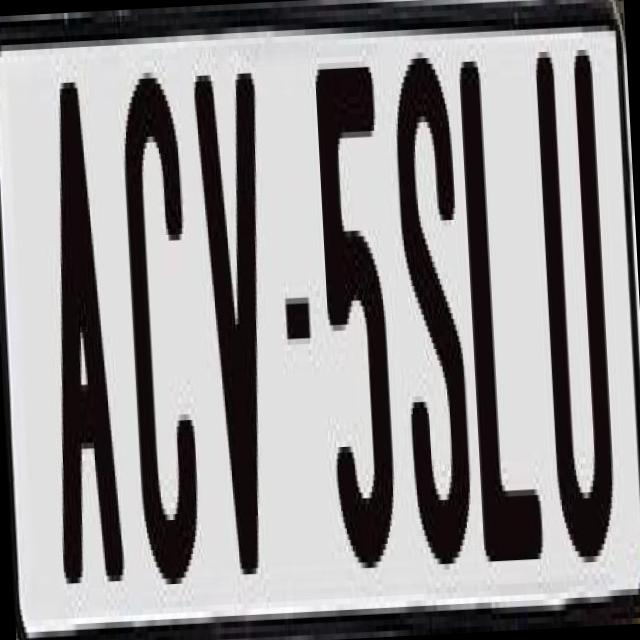5: (312, 61, 397, 569)
A: (38, 76, 125, 584)
C: (116, 58, 210, 598)
L: (457, 59, 550, 562)
S: (389, 51, 482, 560)
U: (530, 38, 616, 576)
V: (188, 67, 278, 576)
